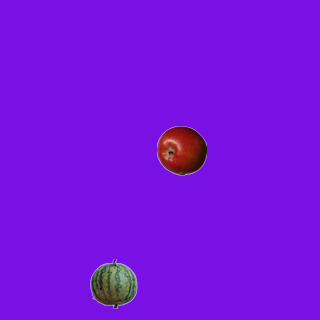Apple Braeburn: (156, 125, 206, 175)
Watermelon: (88, 258, 138, 308)
